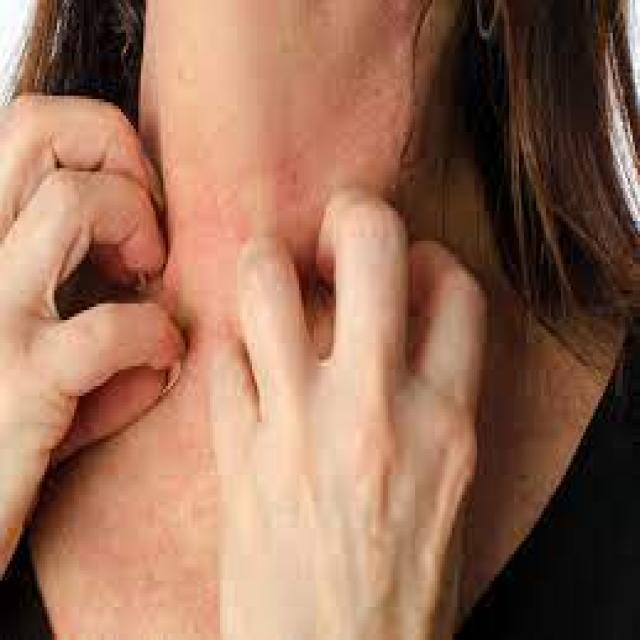Acanthosis Nigricans: (185, 7, 405, 242)
